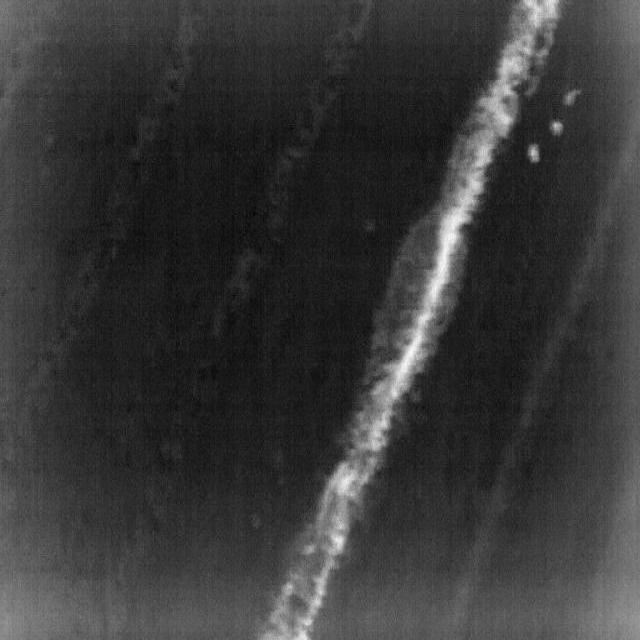deer: (563, 88, 582, 107), (549, 119, 565, 138), (527, 142, 541, 163)
